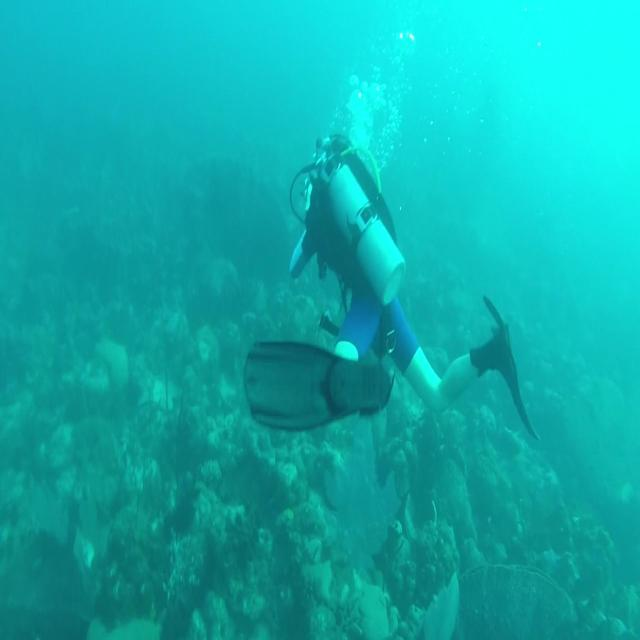human: (288, 132, 540, 442)
